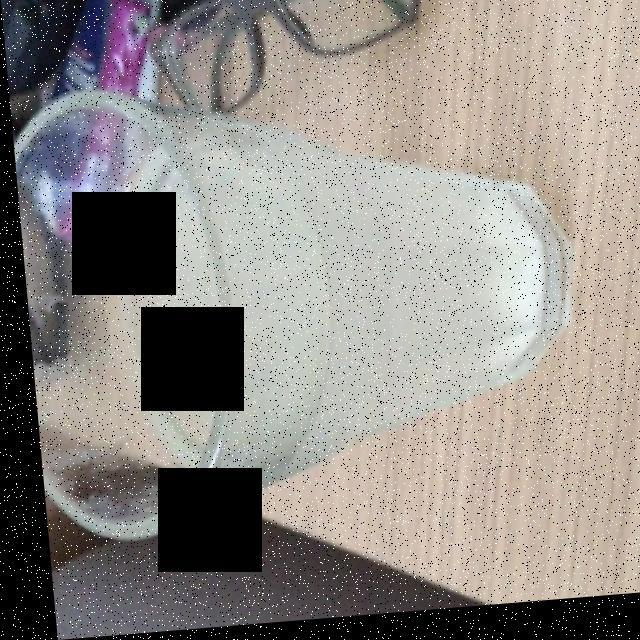drink: (38, 118, 549, 507)
